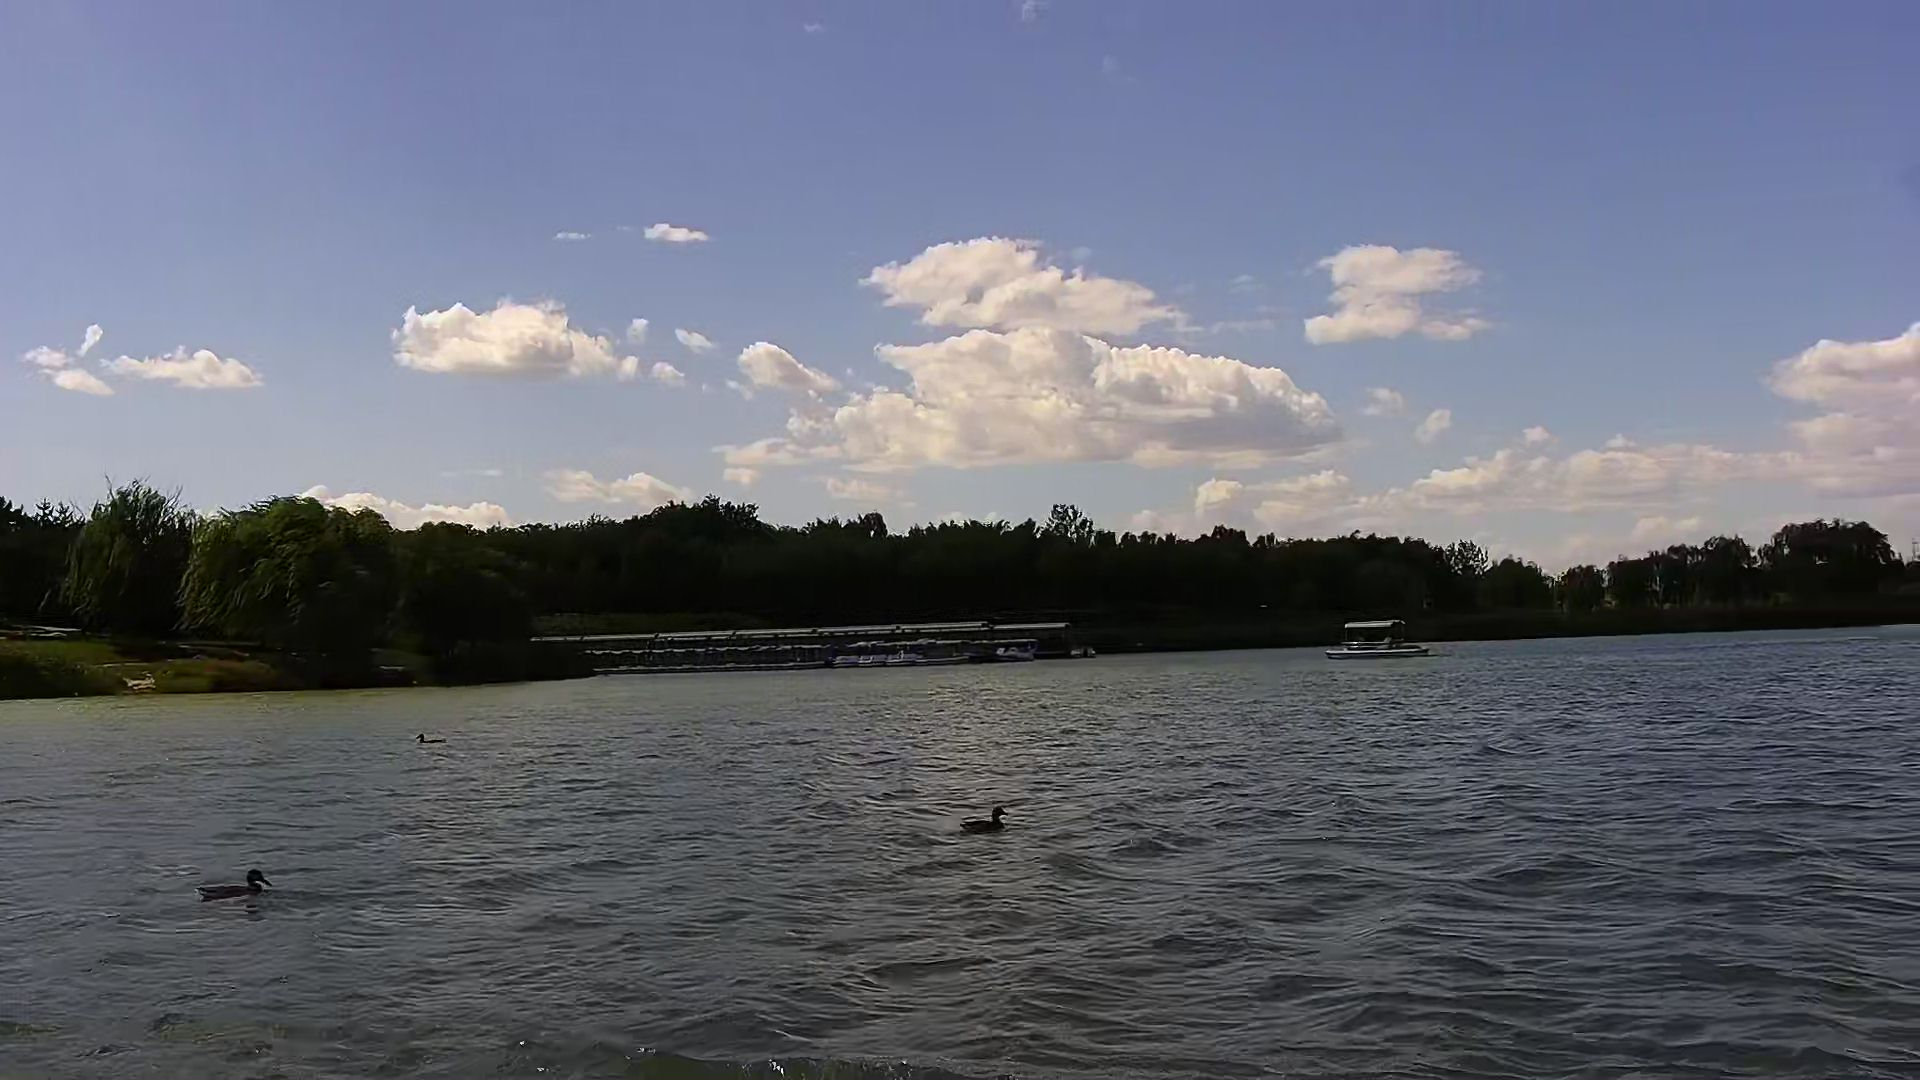animal: (200, 865, 270, 902), (957, 808, 1007, 841)
boat: (1323, 620, 1423, 661)
harbor: (589, 632, 1073, 665)
rock: (129, 678, 154, 698)
